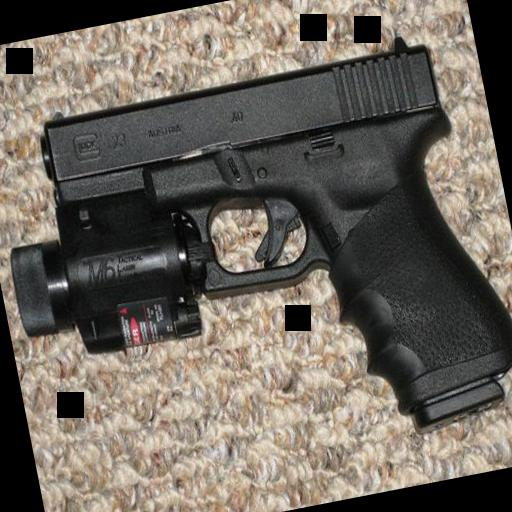Handgun: (0, 25, 512, 507)
